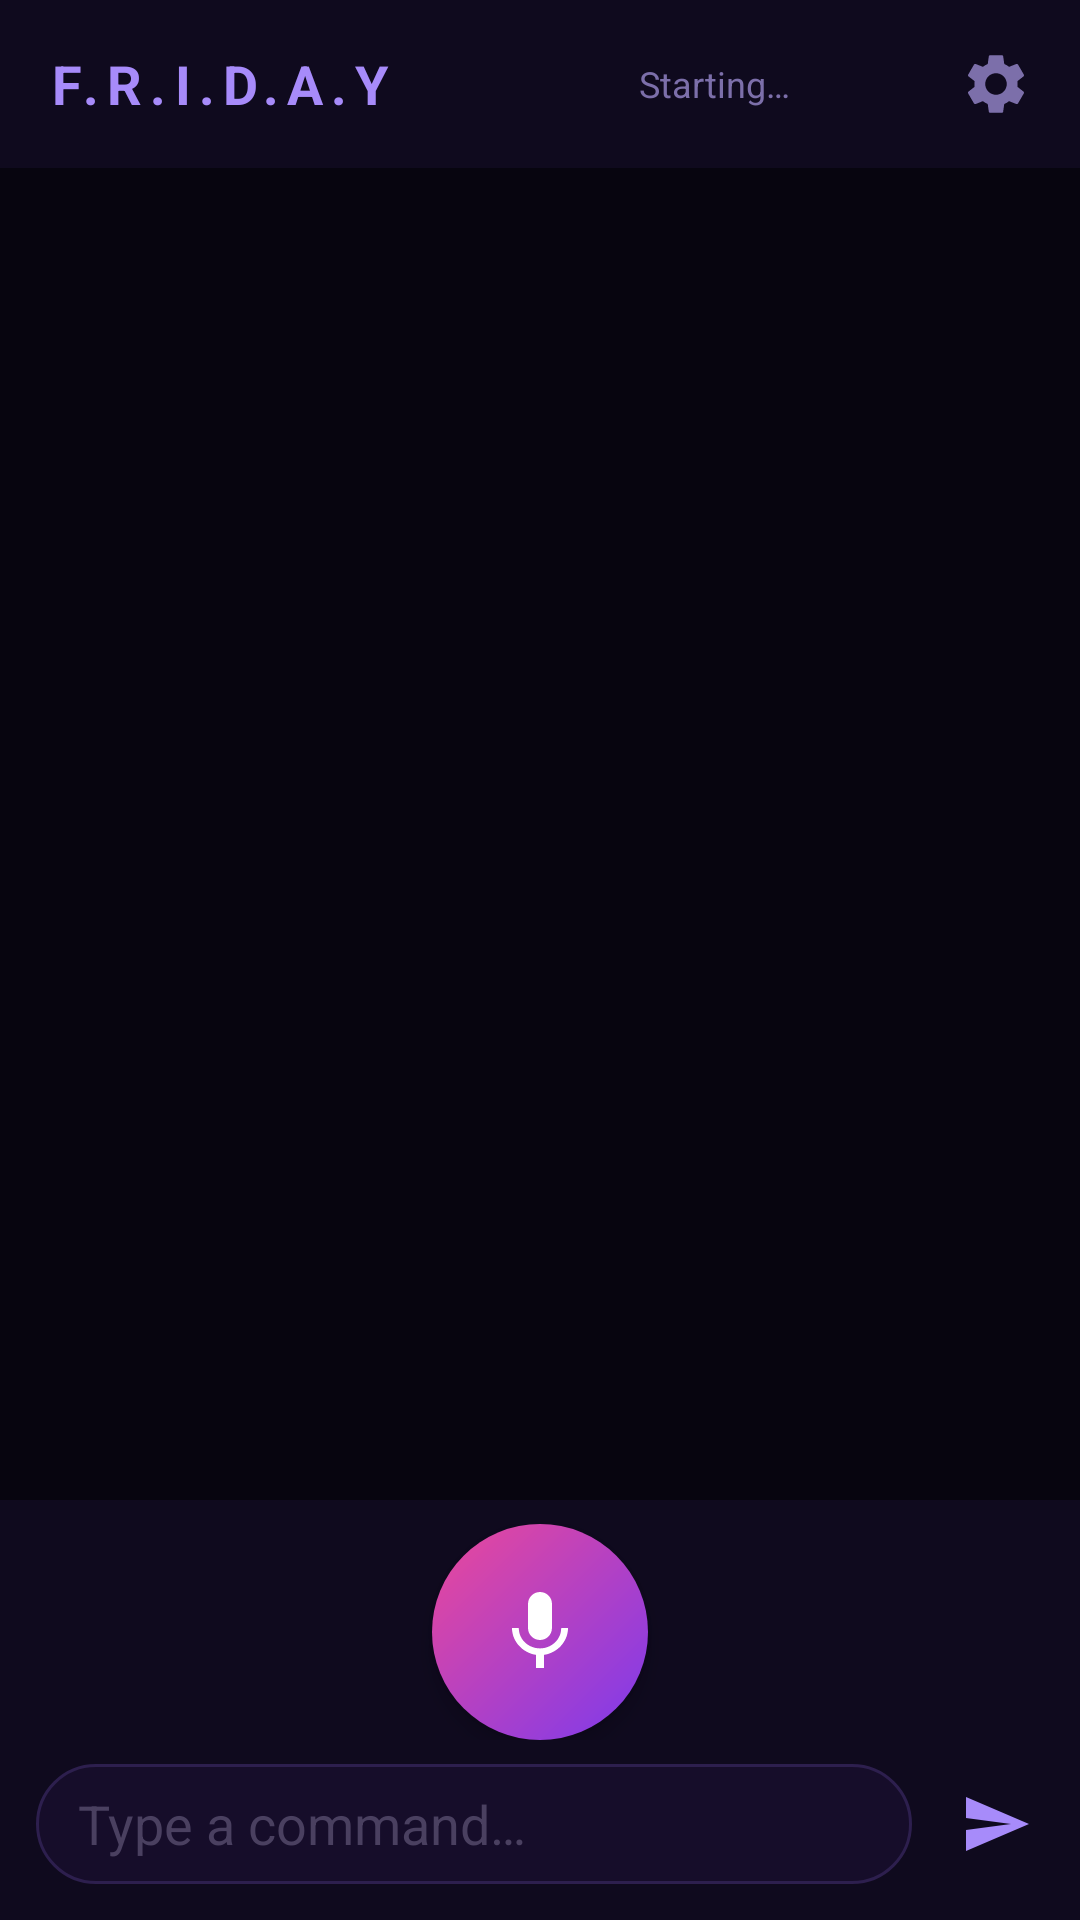

Screen size 1080*1920. Icon name, then its box in pixels as bbox=[x1, y1, x2, y2]:
Send: bbox=[966, 1797, 1029, 1851]
Settings: bbox=[968, 55, 1024, 113]
Tap to speak: bbox=[432, 1524, 648, 1740]
